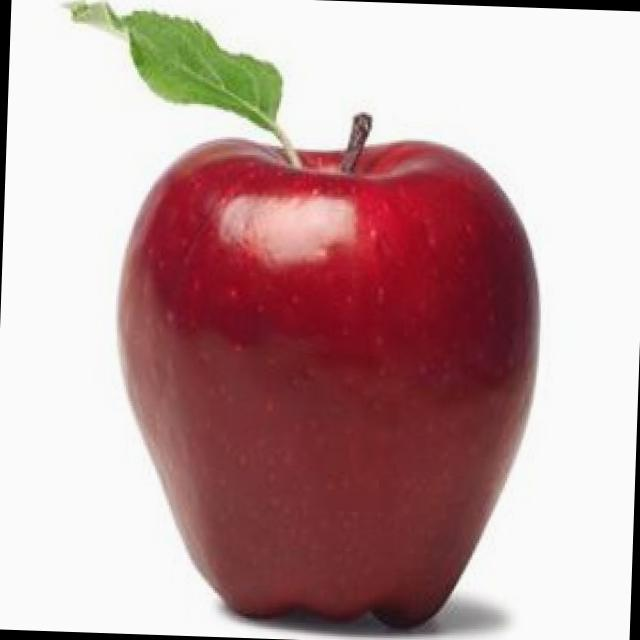apple: (94, 120, 553, 640)
